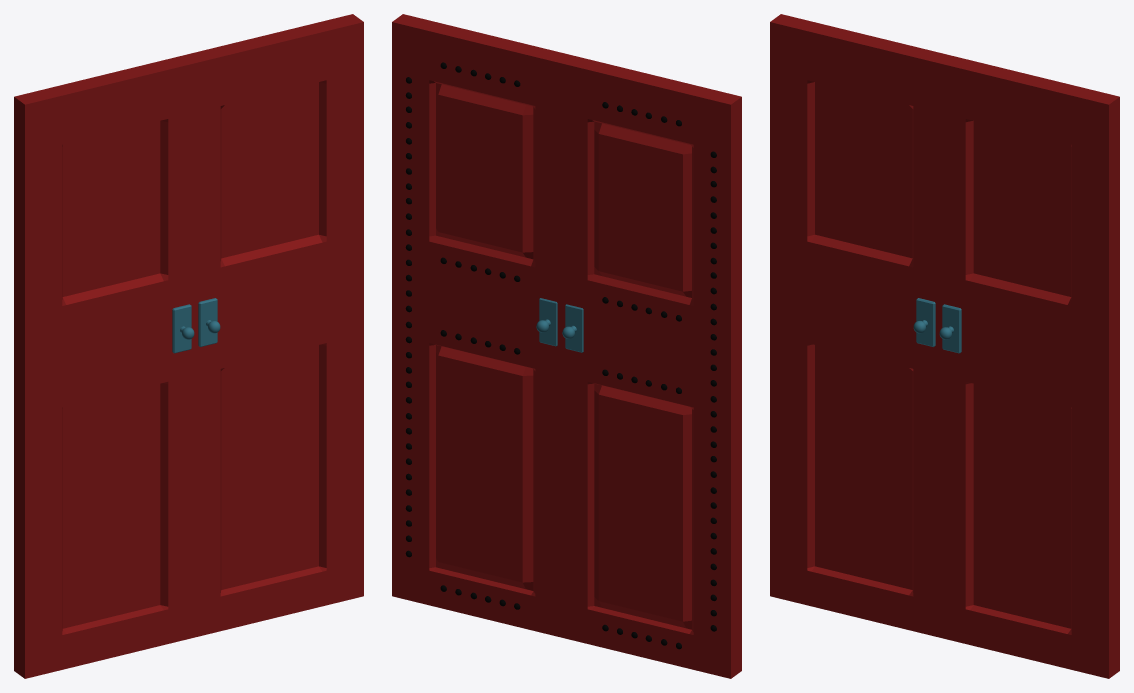
File: Double Door.fbx
3 views of the same model, side by side, from view 1: azimuth 30°, elevation 25°; view 2: azimuth 150°, elevation 25°; view 3: azimuth 330°, elevation 25° (orthographic).
Parts seen in each view (by area): view 1: pCube9 (×2), pCube16 (×2); view 2: pCube9 (×3), pCube16 (×3); view 3: pCube16 (×2), pCube9 (×2).
Part boxes in pixels (left/top/right/bottom): pCube9 (×2): left=14, top=55, right=194, bottom=678; pCube16 (×2): left=184, top=14, right=363, bottom=637; pCube9 (×3): left=561, top=55, right=741, bottom=678; pCube16 (×3): left=392, top=14, right=571, bottom=637; pCube16 (×2): left=939, top=55, right=1119, bottom=678; pCube9 (×2): left=770, top=14, right=949, bottom=637.
Bounding box in the file's own units: 869 × 1407 × 132.
